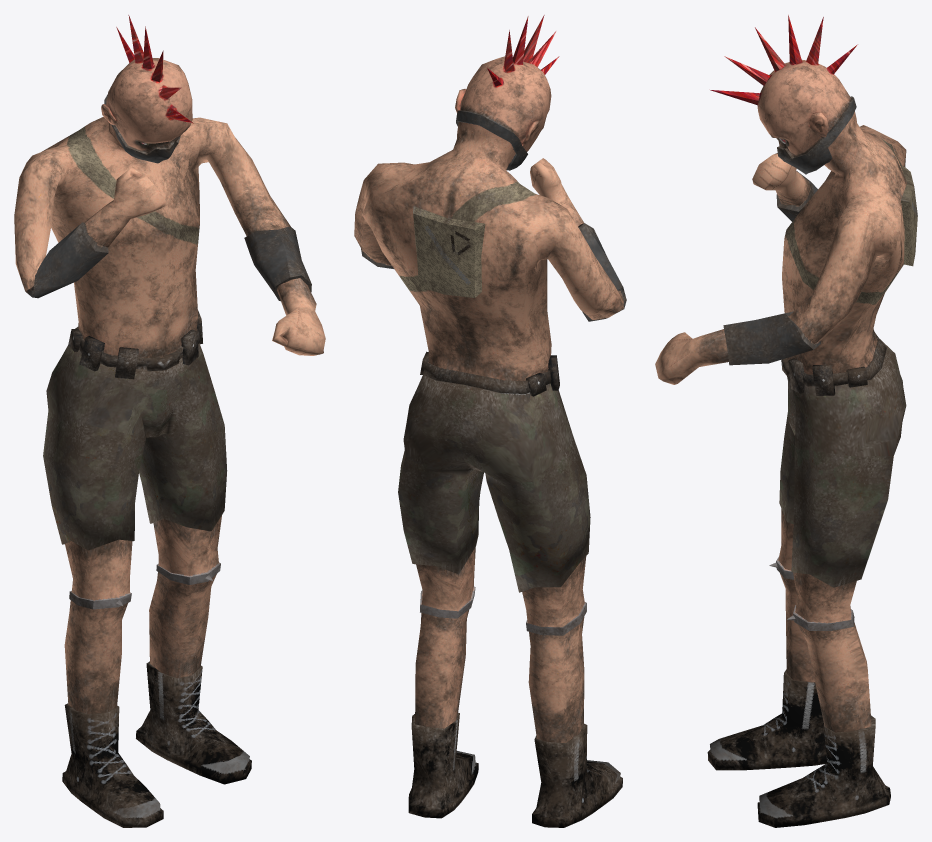
Rendered from Anim_perder_1_npc2.0040.obj.
3 views of the same model, side by side, from view 1: azimuth 30°, elevation 25°; view 2: azimuth 150°, elevation 25°; view 3: azimuth 270°, elevation 25° (orthographic). The views are drawn at different scales.
Parts seen in each view (by area): view 1: polySurface1; view 2: polySurface1; view 3: polySurface1.
Part boxes in pixels (box(x1,y1,x2,y2)): polySurface1: box(14, 15, 325, 827); polySurface1: box(354, 15, 626, 827); polySurface1: box(655, 15, 917, 827).
Bounding box in the file's own units: 3.56 × 9.85 × 3.06.
